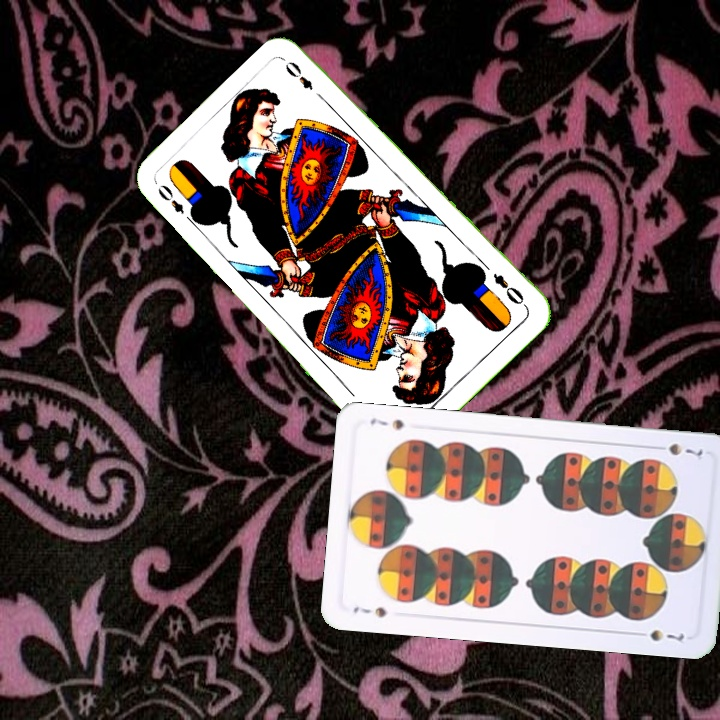EO: (153, 180, 199, 227), (488, 269, 530, 310)
S7: (650, 439, 706, 459), (349, 602, 389, 620)
